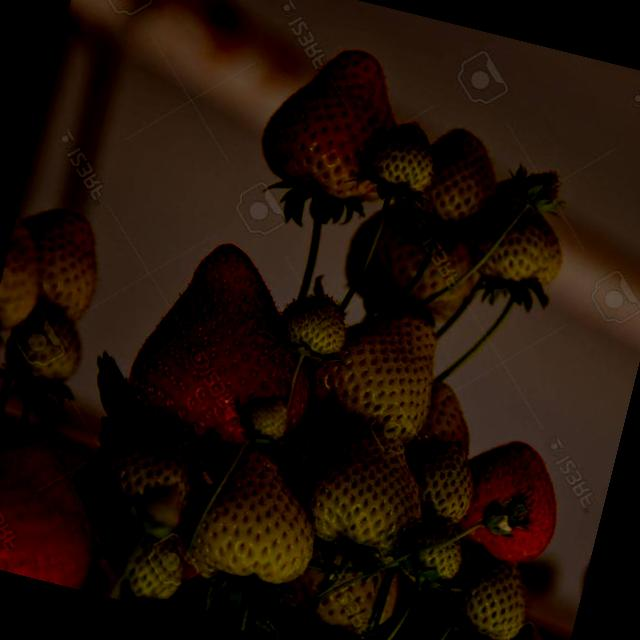Strawberry: (116, 228, 344, 471), (253, 32, 419, 214), (184, 439, 334, 597), (302, 296, 447, 448), (292, 418, 439, 566), (334, 197, 491, 335), (0, 414, 116, 590), (445, 432, 573, 572), (81, 402, 207, 534), (0, 200, 114, 326), (279, 534, 410, 640), (402, 120, 512, 238), (466, 183, 576, 300), (80, 514, 192, 614), (441, 549, 537, 640), (0, 303, 89, 396), (358, 115, 444, 201), (402, 371, 481, 464), (0, 214, 55, 330), (396, 512, 471, 592), (276, 288, 354, 362), (237, 392, 293, 449)
